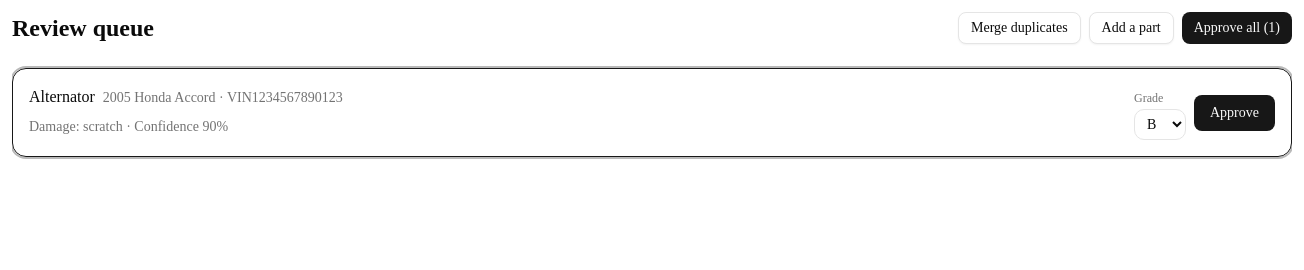
ReviewQueuePage › Merge duplicates › shows a checkbox per item only once merge mode is toggled on
Click the button "Merge duplicates" at point(1019, 28), box [958,12,1080,44]
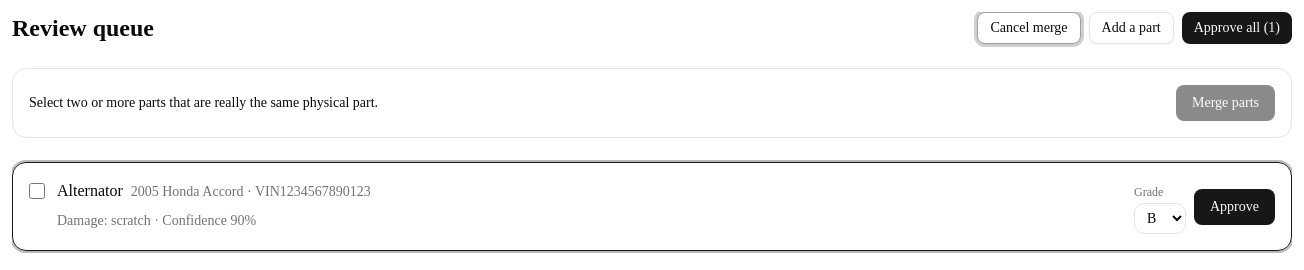
Now the checkbox is shown, box [29,183,45,199]
